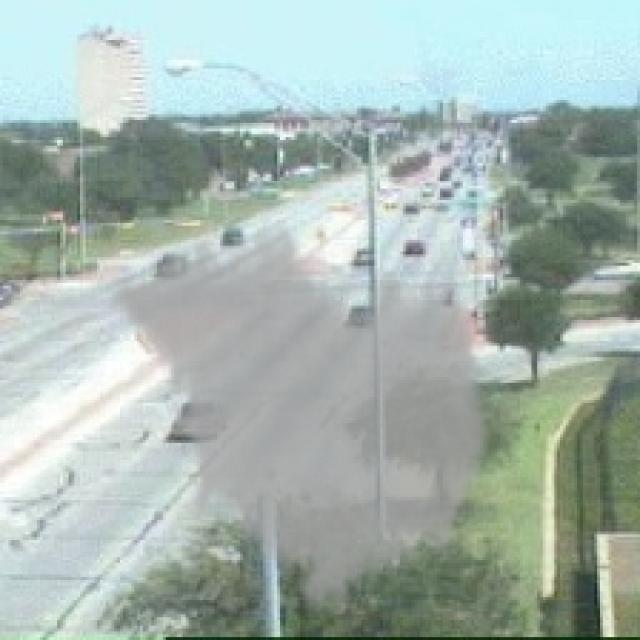Smoke: (108, 208, 494, 623)
